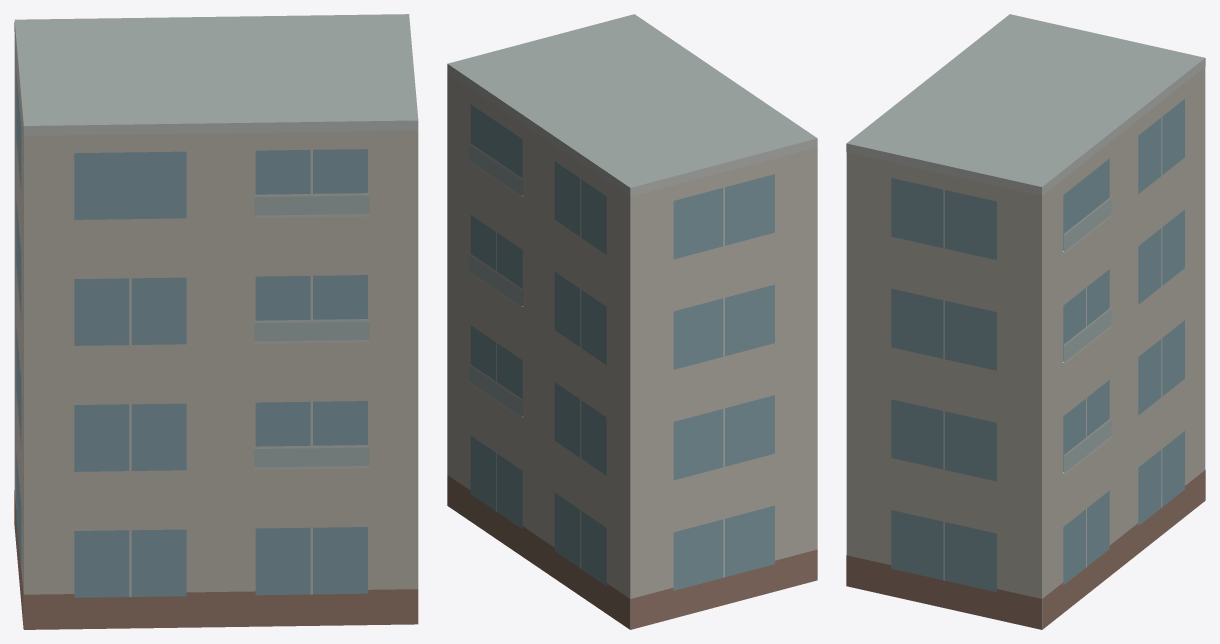
Rendered from survey-upis-32904128.glb.
3 views of the same model, side by side, from view 1: azimuth 30°, elevation 25°; view 2: azimuth 150°, elevation 25°; view 3: azimuth 270°, elevation 25° (orthographic). The views are drawn at different scales.
Visible parts, largest first — view 1: survey-upis-32904128.tmp; view 2: survey-upis-32904128.tmp; view 3: survey-upis-32904128.tmp.
Boxes of the visible parts, <box> form: survey-upis-32904128.tmp: <box>14,14,418,629</box>; survey-upis-32904128.tmp: <box>447,14,817,629</box>; survey-upis-32904128.tmp: <box>846,14,1205,629</box>.
Bounding box in the file's own units: 10.24 × 12.2 × 8.98.
